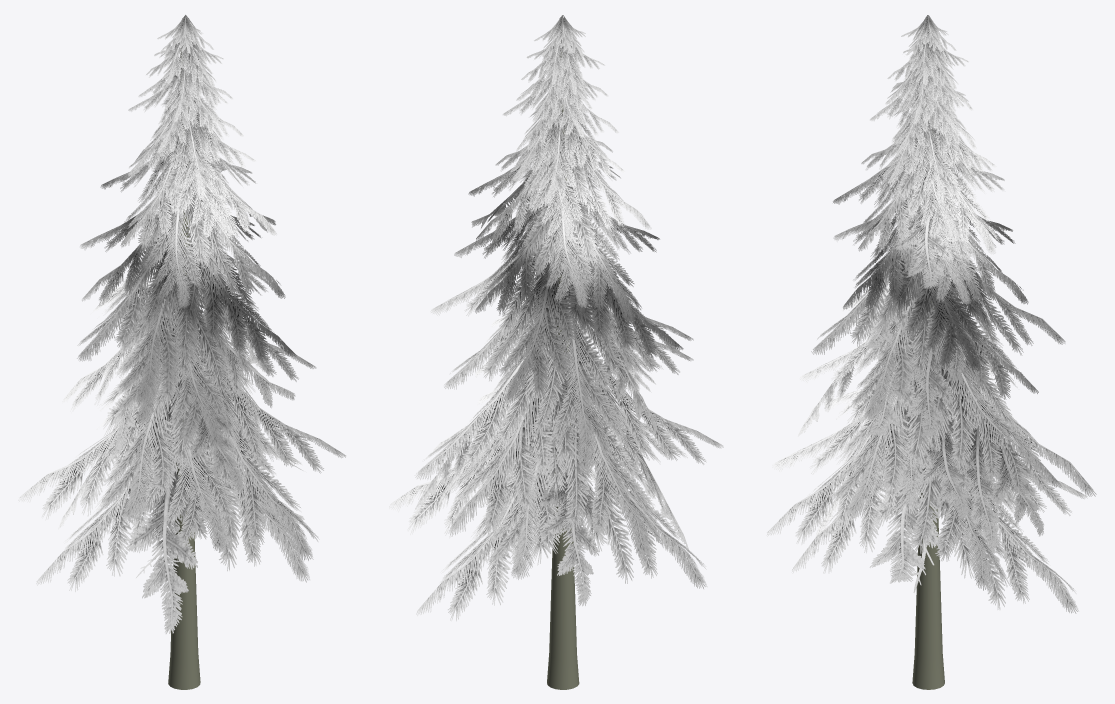
Rendered from tree_cedar.glb.
3 renders of one model, left to right at view 1: azimuth 30°, elevation 25°; view 2: azimuth 150°, elevation 25°; view 3: azimuth 270°, elevation 25°, orthographic.
Parts seen in each view (by area): view 1: tree_cedar; view 2: tree_cedar; view 3: tree_cedar.
Boxes of the visible parts, box(x1,y1,x2,y2) form: tree_cedar: box(18, 15, 345, 689); tree_cedar: box(389, 15, 723, 689); tree_cedar: box(767, 15, 1096, 689).
Size of the model in its own units: 6.54 by 14 by 6.41.
Materials: 1 (1 with a texture image).
